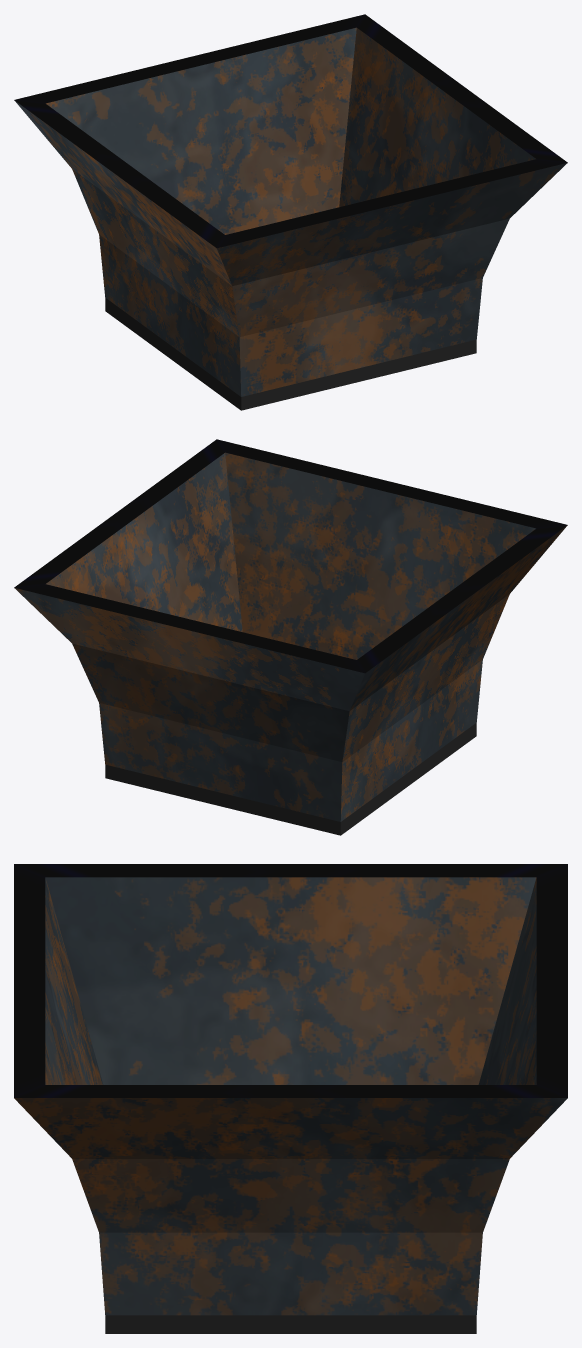
Rendered from PressurePadBasket_Prototype.fbx.
The picture shows the model from 3 angles, top to bottom: view 1: azimuth 30°, elevation 25°; view 2: azimuth 150°, elevation 25°; view 3: azimuth 270°, elevation 25°; orthographic projection. The views are drawn at different scales.
Visible parts, largest first — view 1: PressurePadBasket; view 2: PressurePadBasket; view 3: PressurePadBasket.
Part boxes in pixels (box(x1,y1,x2,y2)): PressurePadBasket: box(14, 14, 567, 410); PressurePadBasket: box(14, 439, 567, 835); PressurePadBasket: box(14, 864, 567, 1333).
Size of the model in its own units: 78.31 by 42.8 by 78.31.
2 materials, 2 textured.
